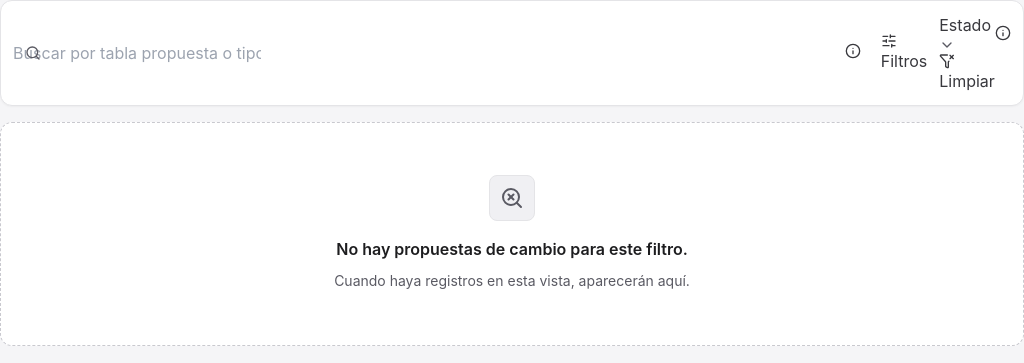
Test: Esquema · buscadores › el change log busca por tabla o tipo de cambio con `q`, no por ID de solicitante
Step 1. Type "cuentas" into the field with placeholder "Buscar por tabla propuesta o tipo de cambio…" → (137,53), box [13,41,261,65]
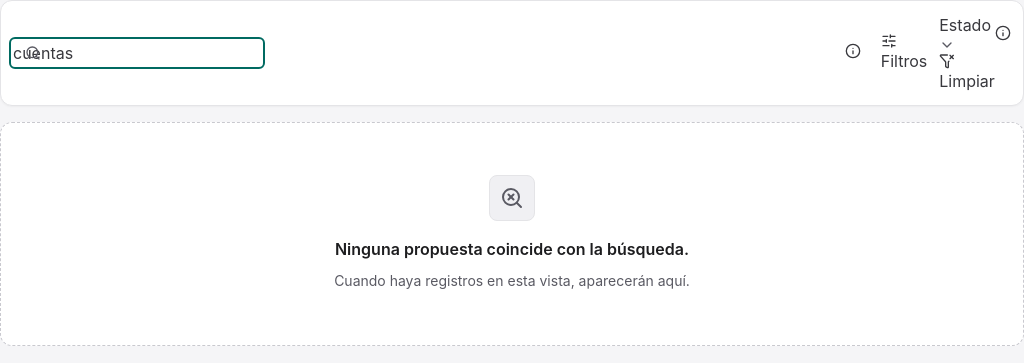
Now the heading "Ninguna propuesta coincide con la búsqueda." is shown, box [335,237,689,261]
